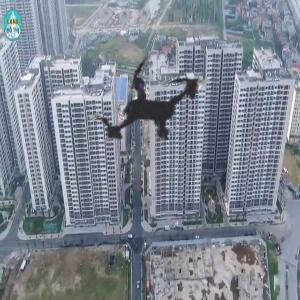drone: (45, 3, 257, 215)
